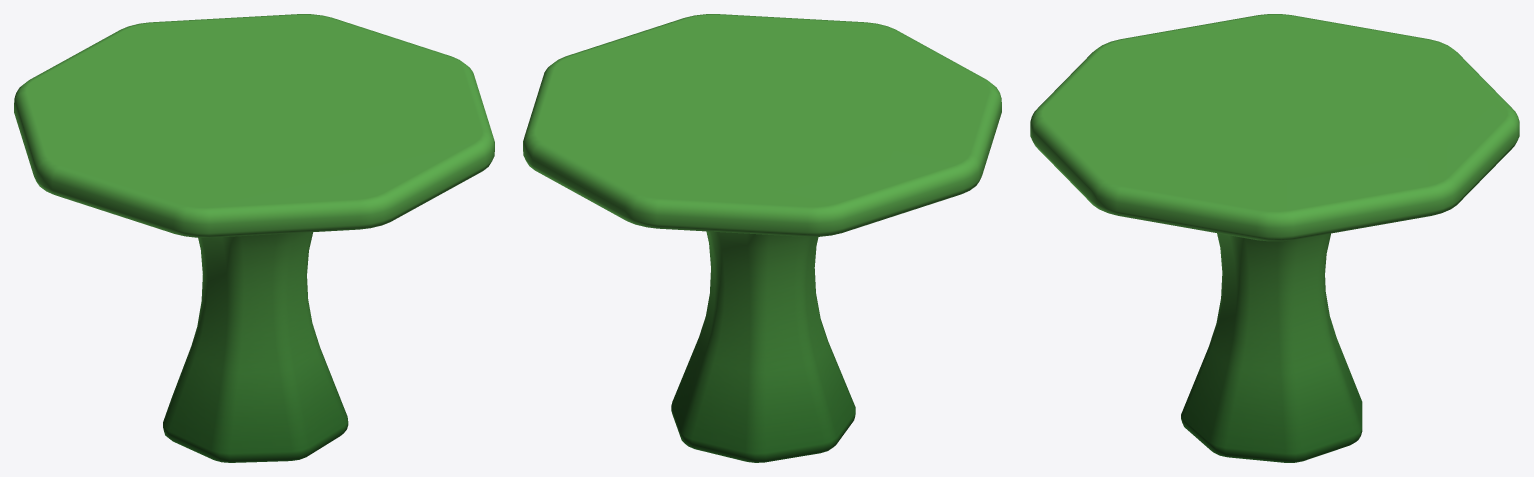
Rendered from Kitchen_Table_04.glb.
3 renders of one model, left to right at view 1: azimuth 30°, elevation 25°; view 2: azimuth 150°, elevation 25°; view 3: azimuth 270°, elevation 25°, orthographic.
Parts seen in each view (by area): view 1: Kitchen_Table_04; view 2: Kitchen_Table_04; view 3: Kitchen_Table_04.
Boxes of the visible parts, x1=… form: Kitchen_Table_04: x1=14, y1=14, x2=494, y2=462; Kitchen_Table_04: x1=523, y1=14, x2=1001, y2=462; Kitchen_Table_04: x1=1030, y1=14, x2=1519, y2=462.
Size of the model in its own units: 1.06 by 0.75 by 1.06.
1 material, 1 textured.
